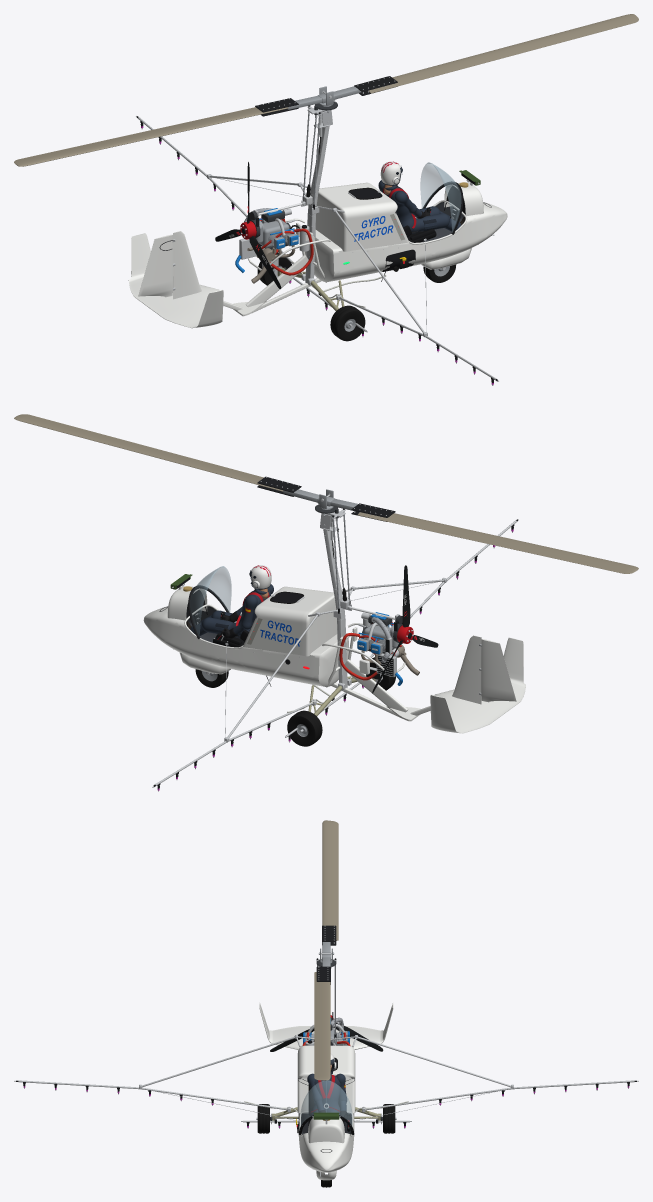
The model's file is tractor.glb.
3 views of the same model, one above another, from view 1: azimuth 30°, elevation 25°; view 2: azimuth 150°, elevation 25°; view 3: azimuth 270°, elevation 25° (orthographic). The views are drawn at different scales.
Parts seen in each view (by area): view 1: airframe, rotor, rudder, windscreen, pilot_front, wheel_R, prop; view 2: airframe, rotor, rudder, windscreen, wheel_L, pilot_front, prop; view 3: airframe, rotor, windscreen, pilot_front.
Boxes of the visible parts, x1=… form: airframe: x1=128, y1=105, x2=507, y2=385; rotor: x1=14, y1=14, x2=638, y2=166; rudder: x1=138, y1=234, x2=175, y2=297; windscreen: x1=420, y1=162, x2=461, y2=232; pilot_front: x1=380, y1=161, x2=416, y2=231; wheel_R: x1=330, y1=305, x2=365, y2=341; prop: x1=215, y1=162, x2=281, y2=289; airframe: x1=143, y1=508, x2=525, y2=791; rotor: x1=14, y1=414, x2=638, y2=573; rudder: x1=479, y1=639, x2=516, y2=702; windscreen: x1=190, y1=566, x2=231, y2=636; wheel_L: x1=287, y1=710, x2=322, y2=746; pilot_front: x1=236, y1=565, x2=271, y2=636; prop: x1=372, y1=565, x2=438, y2=693; airframe: x1=14, y1=958, x2=638, y2=1180; rotor: x1=314, y1=820, x2=338, y2=1080; windscreen: x1=300, y1=1080, x2=352, y2=1126; pilot_front: x1=311, y1=1053, x2=340, y2=1114.
Bounding box in the file's own units: 8.23 × 2.79 × 8.37.
